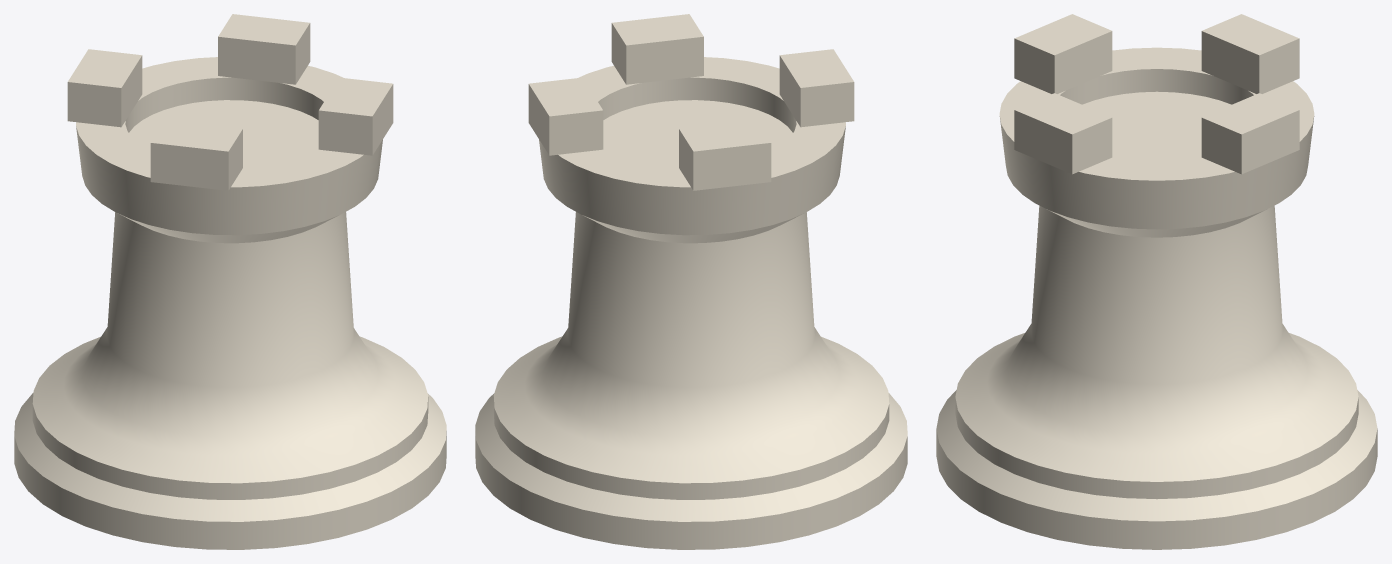
File: WhiteRook.glb
The picture shows the model from 3 angles, left to right: view 1: azimuth 30°, elevation 25°; view 2: azimuth 150°, elevation 25°; view 3: azimuth 270°, elevation 25°; orthographic projection.
Parts seen in each view (by area): view 1: WhiteRook; view 2: WhiteRook; view 3: WhiteRook.
Part boxes in pixels (<box>): WhiteRook: <box>14,14,446,549</box>; WhiteRook: <box>475,14,907,549</box>; WhiteRook: <box>936,14,1377,549</box>.
Size of the model in its own units: 0.7 by 0.67 by 0.7.
